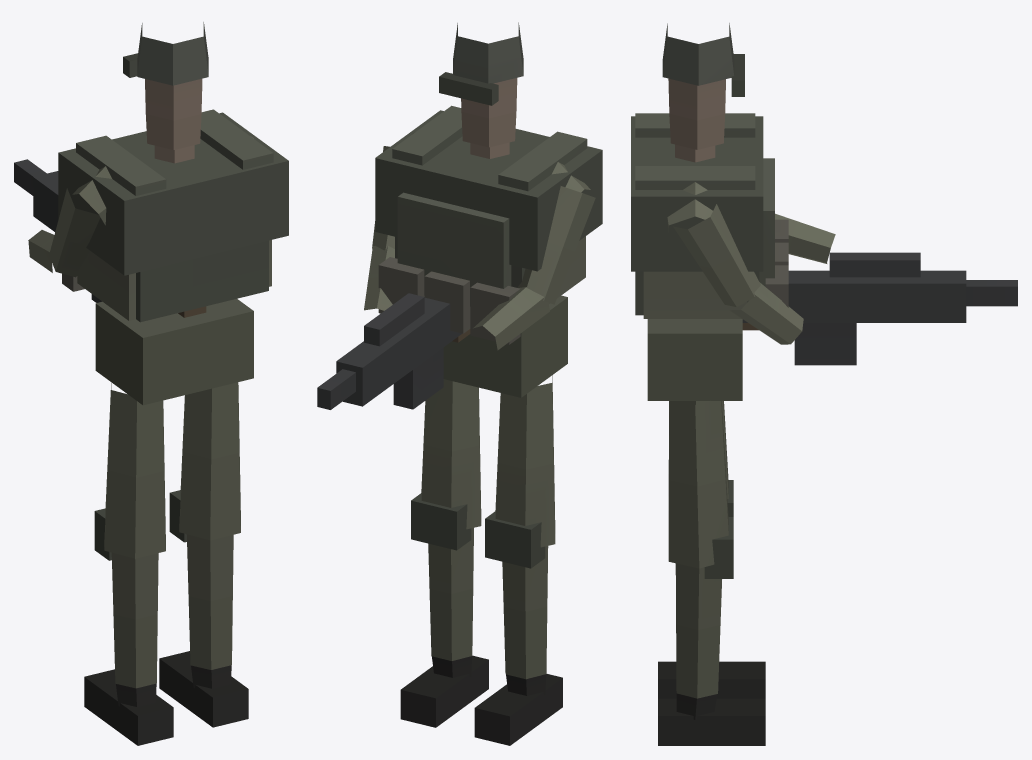
File: soldier.glb
3 views of the same model, side by side, from view 1: azimuth 30°, elevation 25°; view 2: azimuth 150°, elevation 25°; view 3: azimuth 270°, elevation 25° (orthographic).
Parts seen in each view (by area): view 1: soldier.001; view 2: soldier.001; view 3: soldier.001.
Boxes of the visible parts, bbox=[...] form: soldier.001: bbox=[14, 22, 288, 745]; soldier.001: bbox=[317, 22, 602, 745]; soldier.001: bbox=[631, 23, 1017, 745].
Size of the model in its own units: 0.5784 by 1.84 by 0.935.
